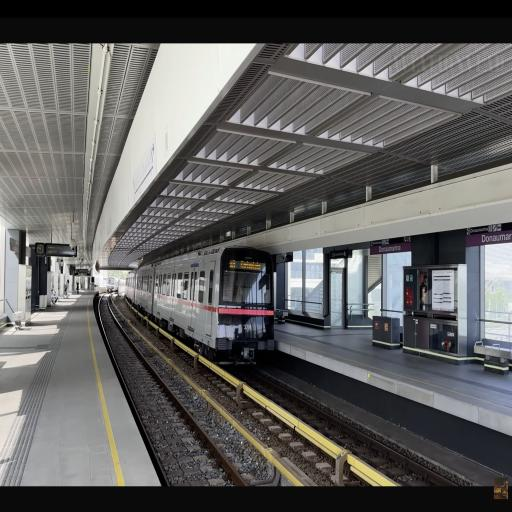X-Wagen: (124, 243, 278, 362)
